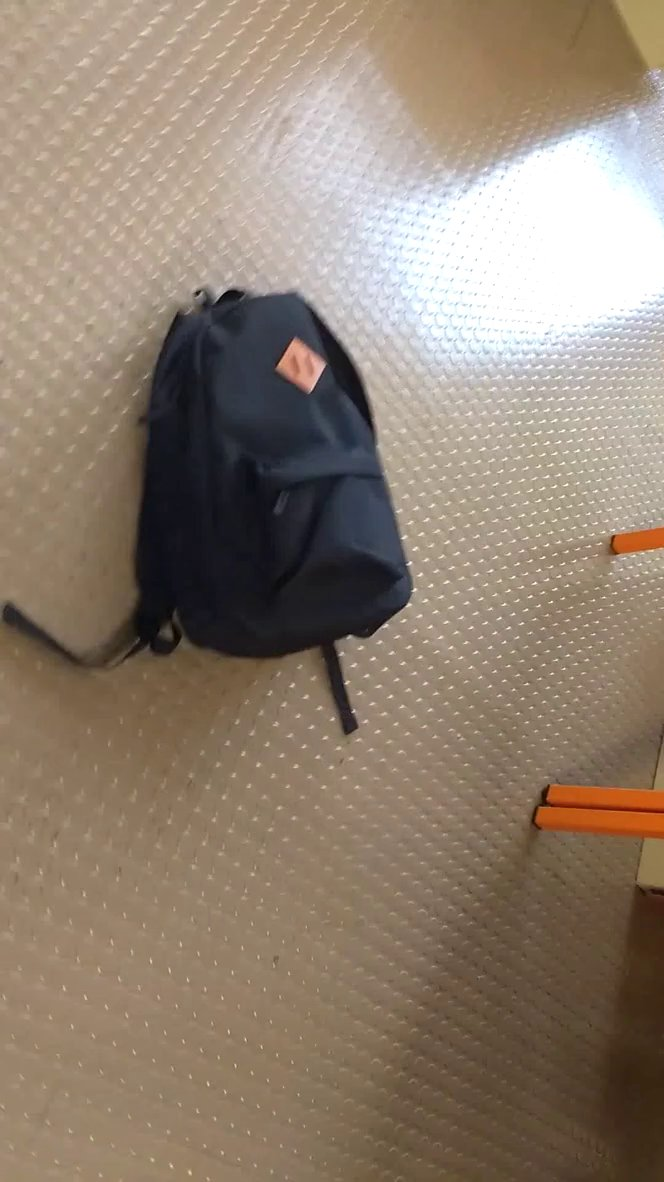bag: (2, 230, 424, 759)
